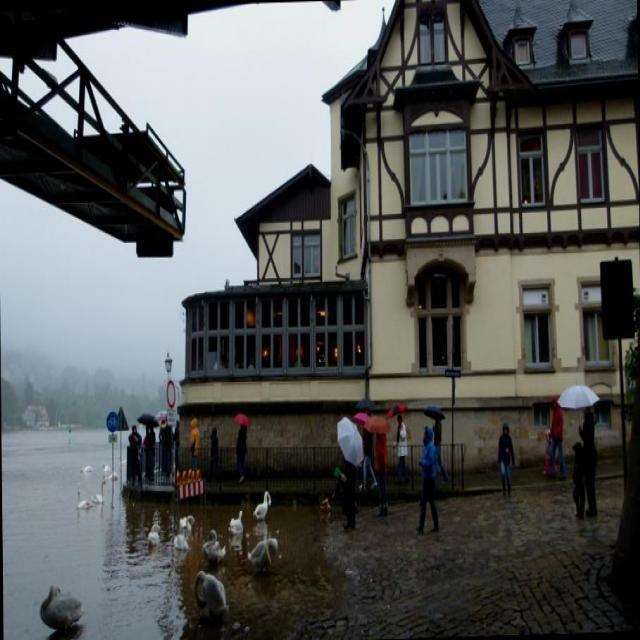flood: (1, 396, 329, 639)
